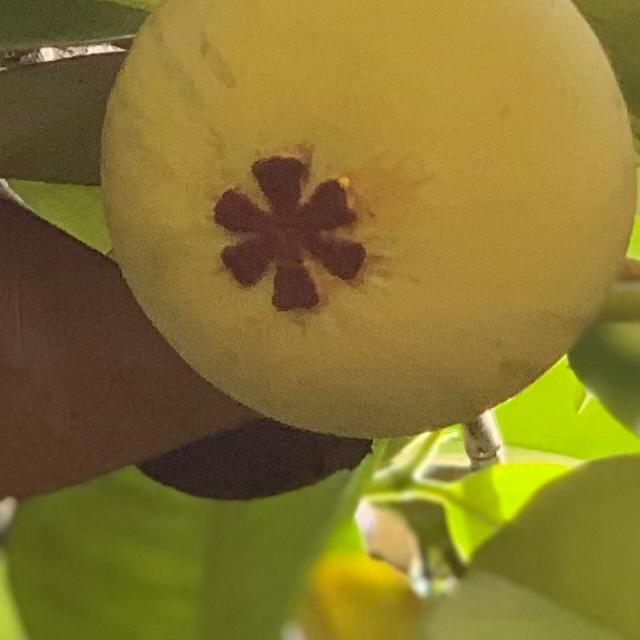mangosteen: (81, 0, 640, 444)
